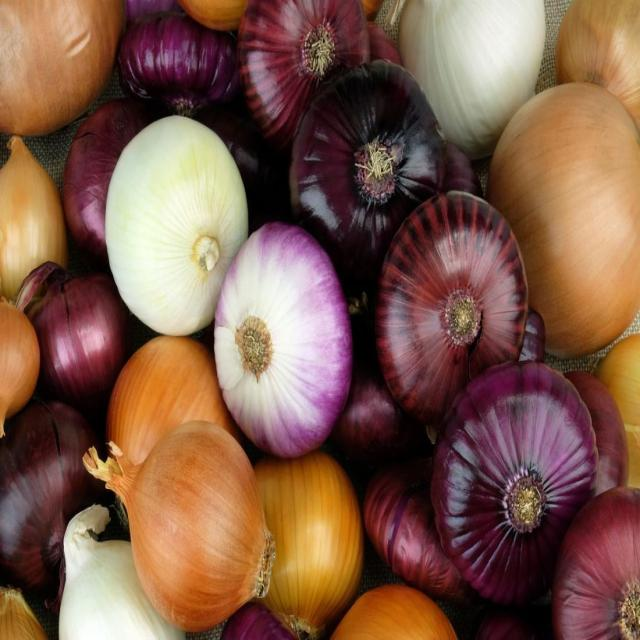Onion: (487, 79, 640, 363), (83, 422, 276, 631), (436, 360, 598, 602), (289, 56, 446, 302), (376, 188, 526, 426), (212, 221, 354, 456), (105, 115, 248, 338), (386, 0, 548, 164), (110, 335, 241, 532), (0, 401, 108, 622), (250, 447, 364, 640), (15, 258, 136, 418), (238, 0, 368, 142), (58, 503, 187, 640), (1, 0, 125, 137), (329, 360, 435, 513), (362, 455, 470, 600), (60, 100, 148, 266), (118, 9, 242, 118), (553, 492, 639, 640), (552, 2, 640, 131), (0, 134, 66, 305), (211, 110, 289, 241), (564, 366, 628, 503), (329, 584, 457, 640), (594, 334, 640, 488), (0, 292, 41, 437), (0, 583, 47, 640), (226, 602, 292, 640), (180, 0, 252, 30), (444, 146, 485, 198), (118, 0, 177, 28), (369, 20, 402, 68), (521, 304, 547, 361), (360, 0, 385, 21)
